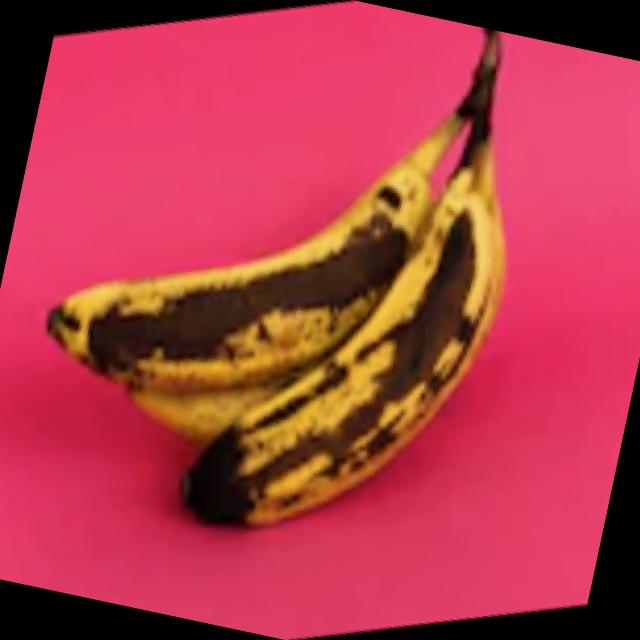Rotten_Banana: (12, 13, 629, 640)
